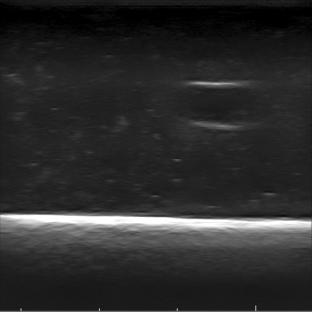vessel: (176, 81, 263, 131)
